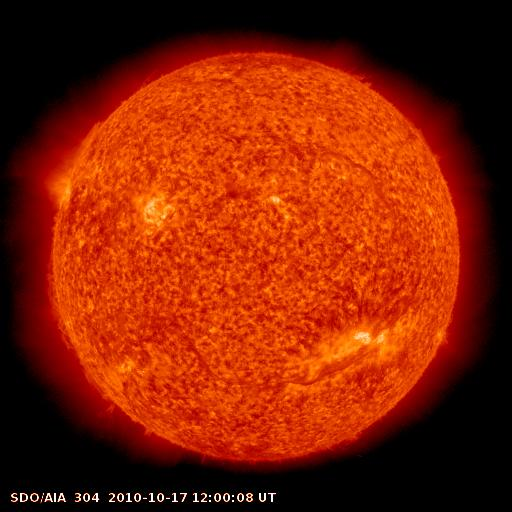prominence: (44, 248, 79, 356), (77, 364, 126, 429), (76, 111, 117, 155), (341, 60, 386, 98)
